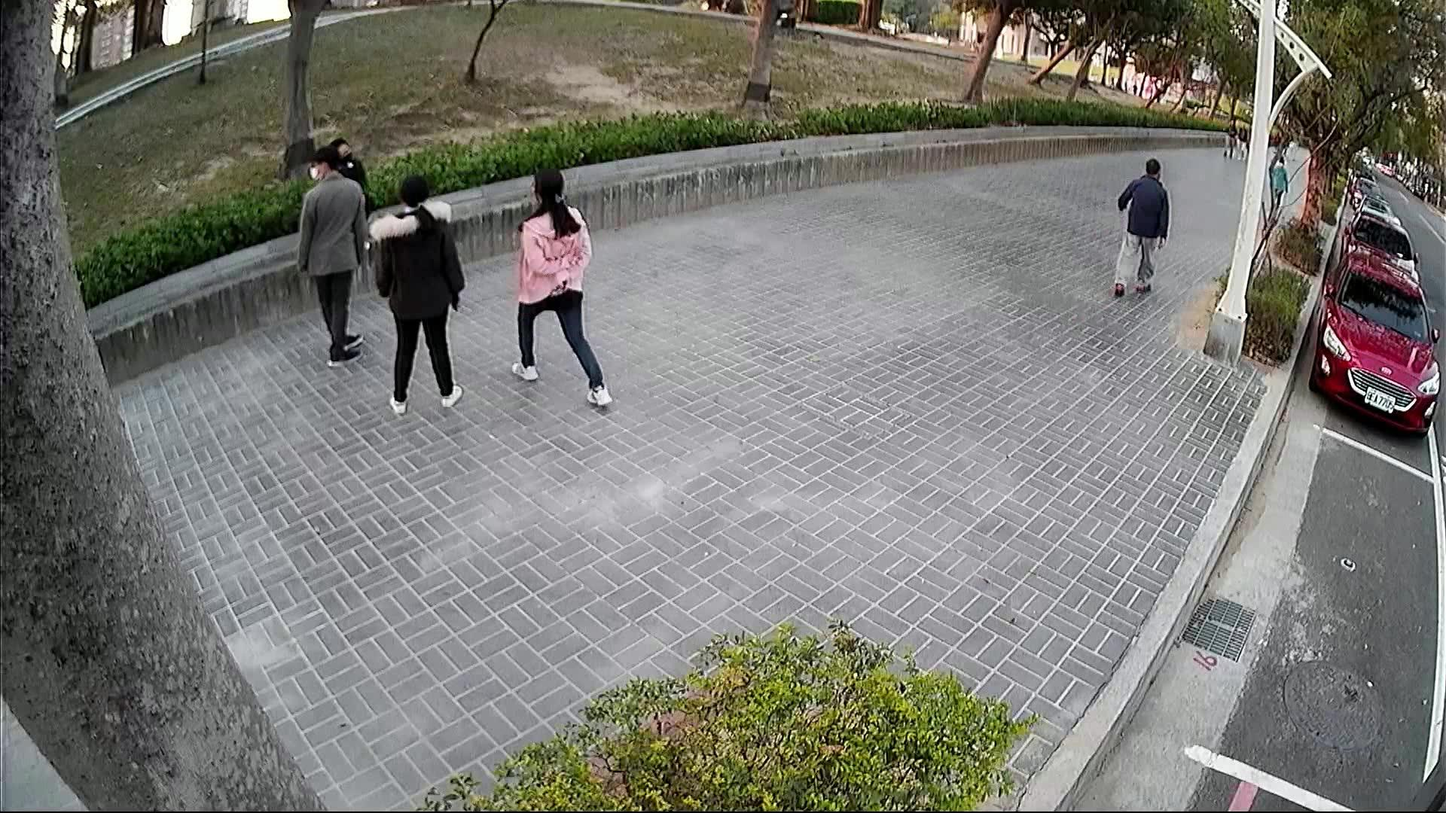person: (501, 157, 618, 414), (365, 169, 468, 417), (295, 142, 373, 371), (1100, 151, 1174, 305), (325, 129, 374, 212), (1264, 150, 1291, 212), (1231, 117, 1248, 163), (1220, 114, 1237, 158)
